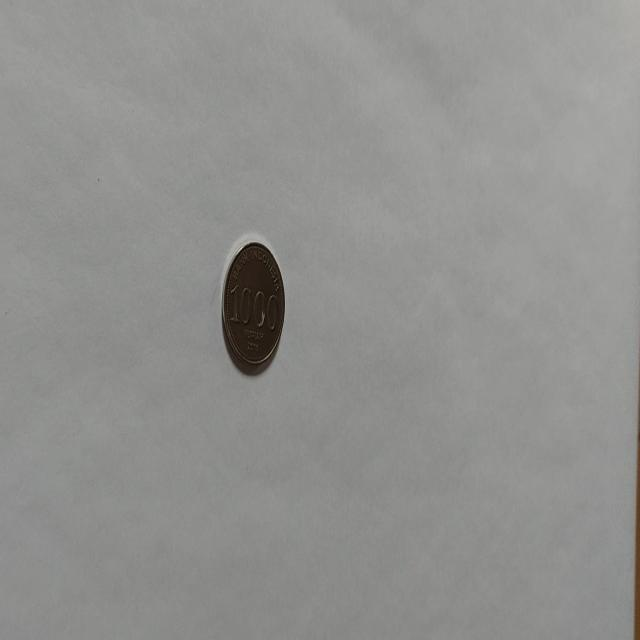seribu rupiah koin: (220, 235, 286, 376)
